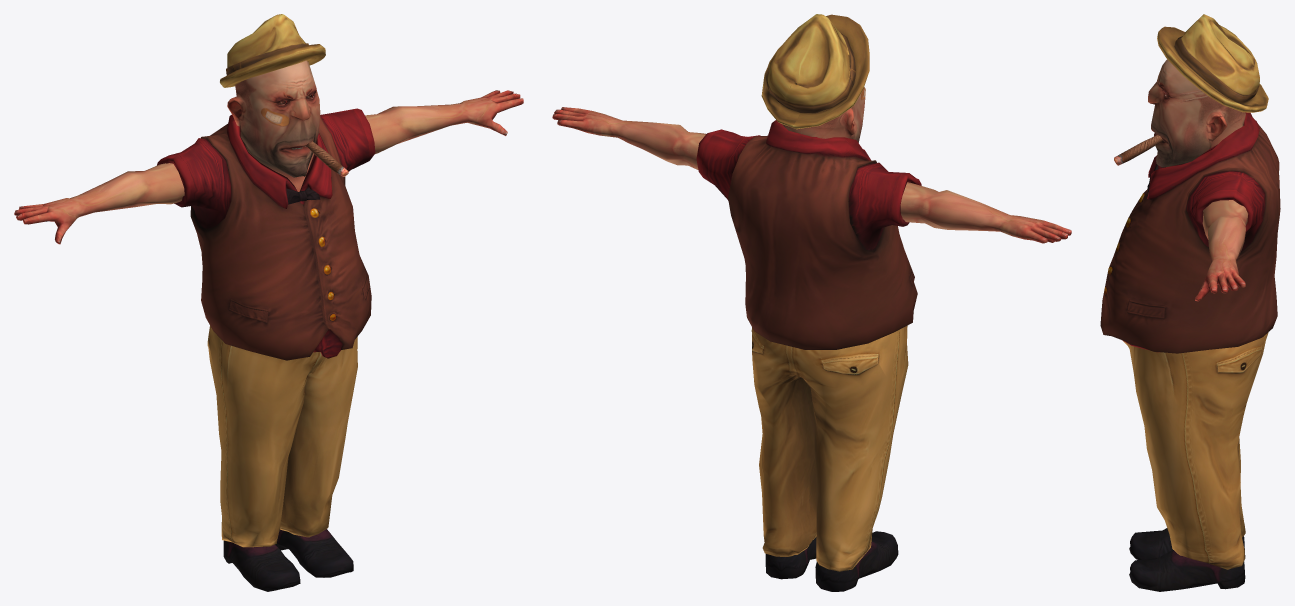
Rendered from Lead Jab_lod1.gltf.
3 renders of one model, left to right at view 1: azimuth 30°, elevation 25°; view 2: azimuth 150°, elevation 25°; view 3: azimuth 270°, elevation 25°, orthographic.
Visible parts, largest first — view 1: Lead Jab_mesh; view 2: Lead Jab_mesh; view 3: Lead Jab_mesh.
Boxes of the visible parts, box(x1,y1,x2,y2) form: Lead Jab_mesh: box(14, 14, 523, 591); Lead Jab_mesh: box(552, 14, 1071, 591); Lead Jab_mesh: box(1100, 14, 1280, 591).
Bounding box in the file's own units: 1.93 × 1.99 × 0.5878.
4 materials, 4 textured.
